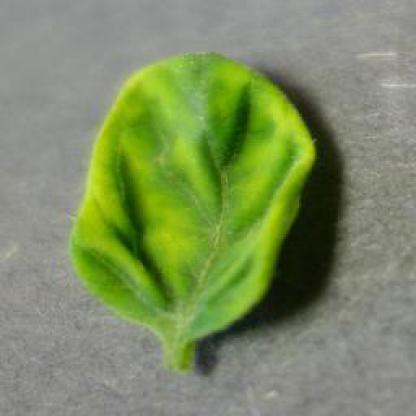bad leaf: (47, 32, 358, 348)
